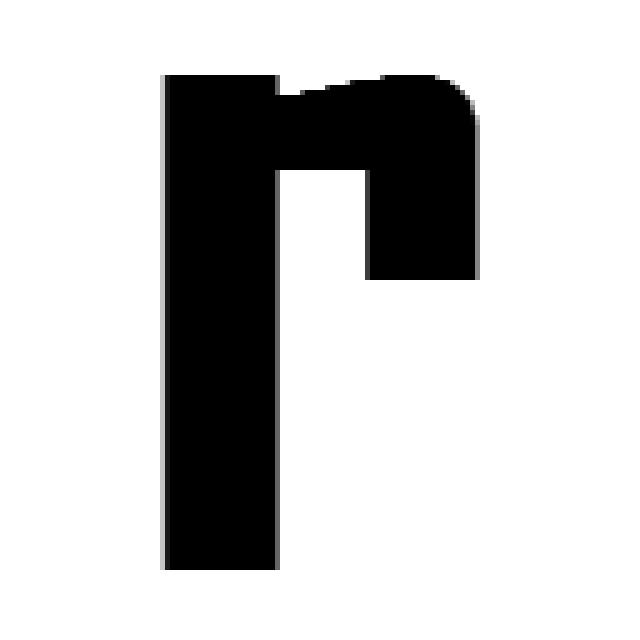R: (155, 65, 485, 570)
